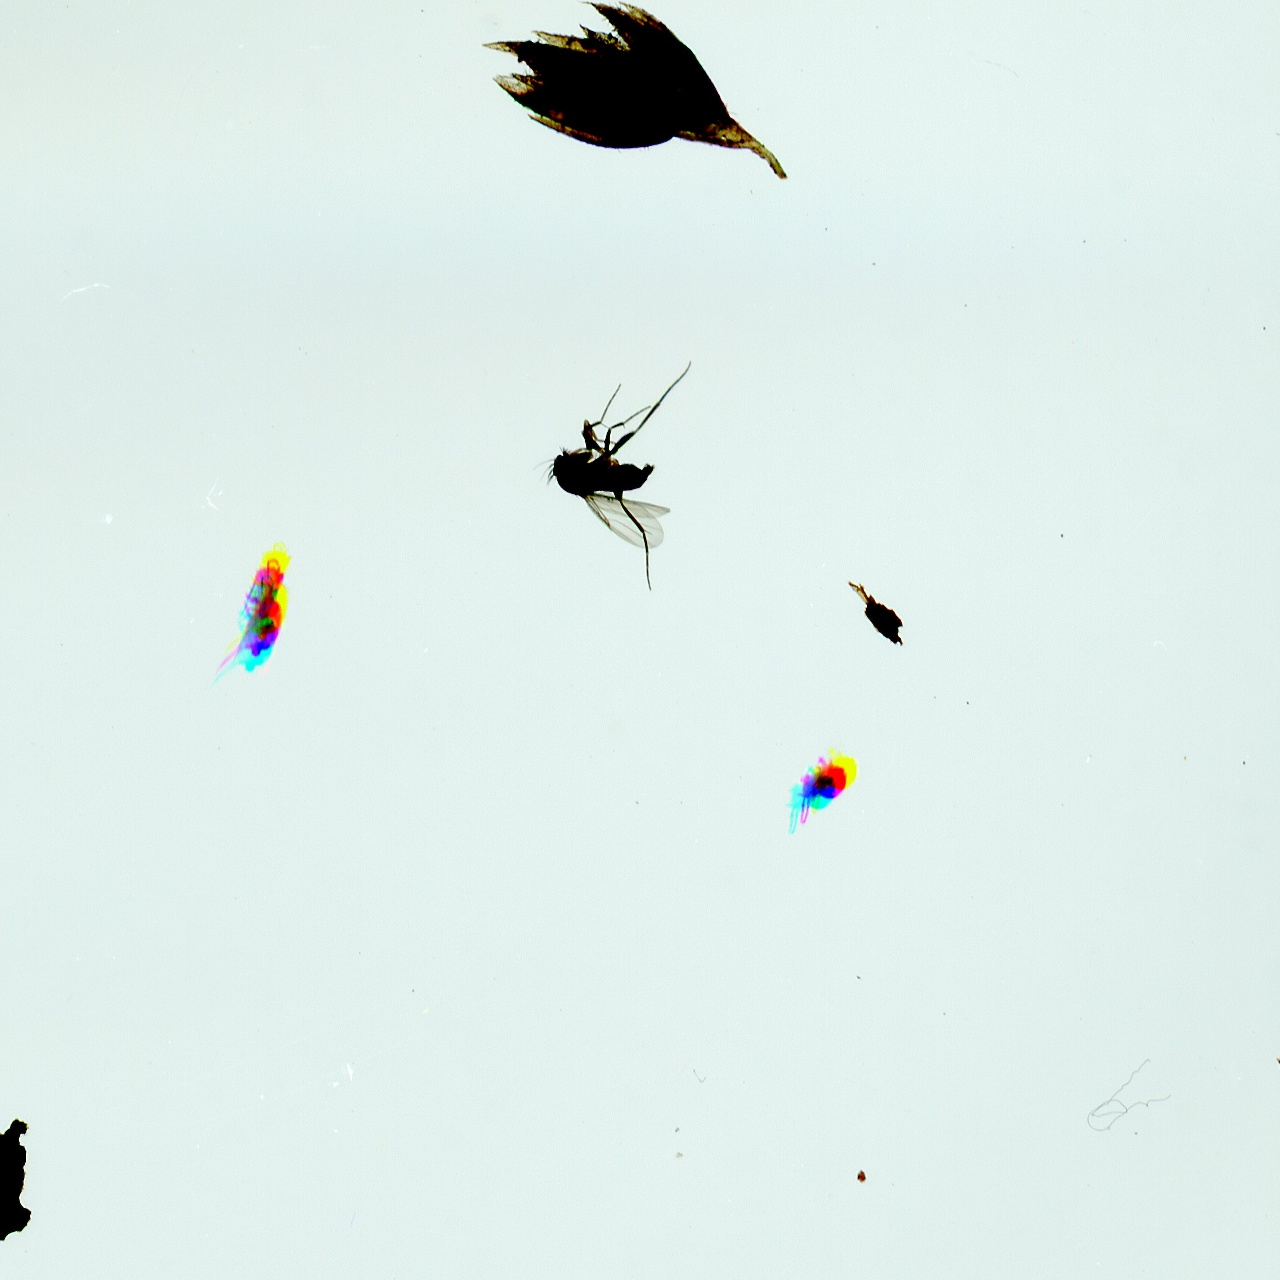arthropod: (527, 355, 696, 594)
